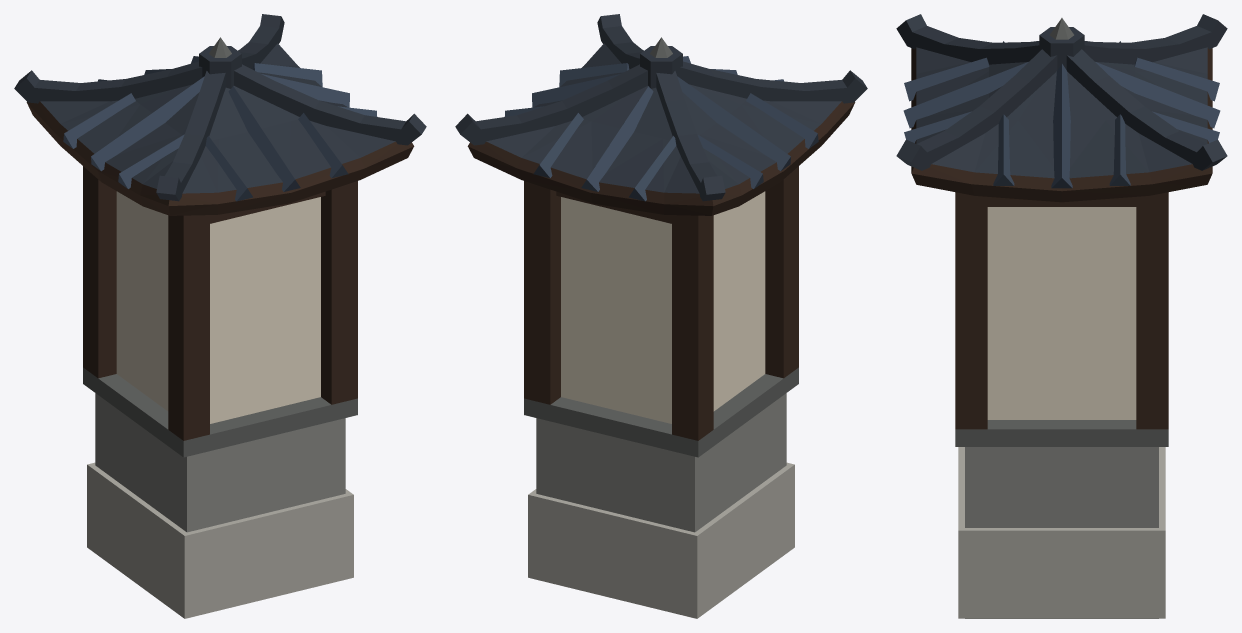
The model's file is wall_post.fbx.
The picture shows the model from 3 angles, left to right: view 1: azimuth 30°, elevation 25°; view 2: azimuth 150°, elevation 25°; view 3: azimuth 270°, elevation 25°; orthographic projection. The views are drawn at different scales.
Parts seen in each view (by area): view 1: wall_post; view 2: wall_post; view 3: wall_post.
Boxes of the visible parts, x1=… form: wall_post: x1=14, y1=14, x2=426, y2=618; wall_post: x1=455, y1=14, x2=867, y2=618; wall_post: x1=896, y1=14, x2=1227, y2=618.
Size of the model in its own units: 2.05 by 3.82 by 2.05.
